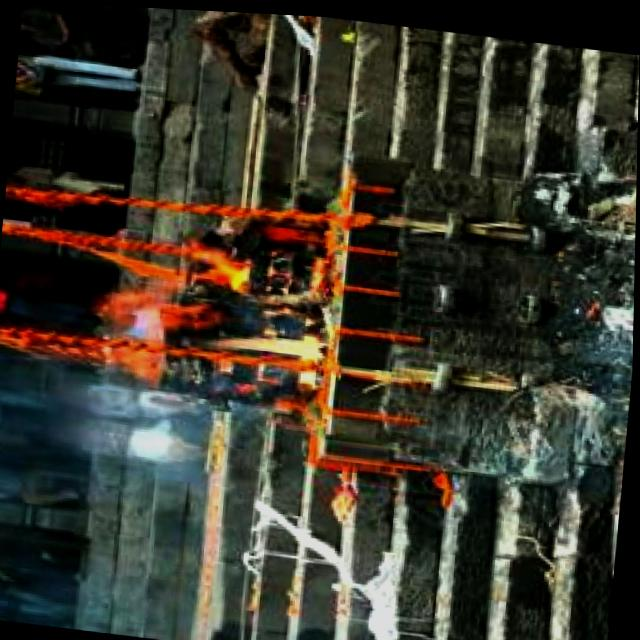helmet: (96, 230, 334, 366)
